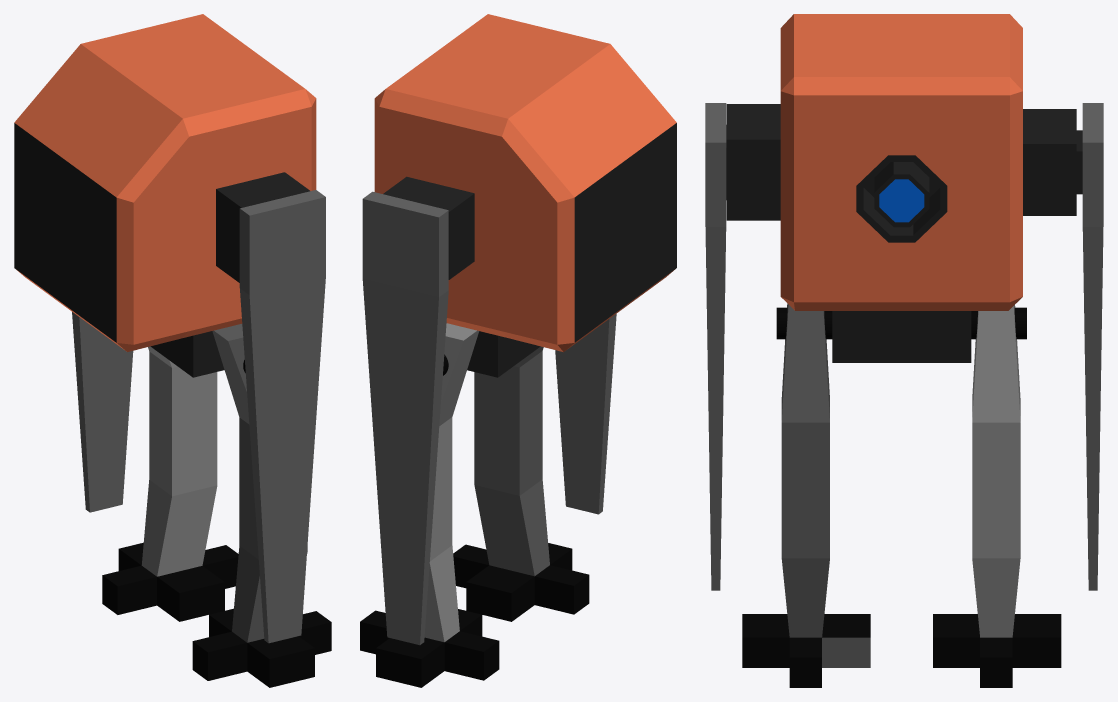
File: droid_v001.fbx
The picture shows the model from 3 angles, left to right: view 1: azimuth 30°, elevation 25°; view 2: azimuth 150°, elevation 25°; view 3: azimuth 270°, elevation 25°; orthographic projection. The views are drawn at different scales.
Visible parts, largest first — view 1: Body, ArmR, LegL, LegR, ArmL; view 2: Body, ArmL, LegR, LegL, ArmR; view 3: Body, LegR, LegL, ArmL, ArmR, Axel.
Part boxes in pixels (left/top/right/bottom): Body: left=14, top=14, right=316, bottom=377; ArmR: left=239, top=190, right=325, bottom=643; LegL: left=102, top=346, right=238, bottom=621; LegR: left=192, top=324, right=331, bottom=687; ArmL: left=72, top=312, right=133, bottom=512; Body: left=374, top=14, right=676, bottom=377; ArmL: left=362, top=191, right=448, bottom=645; LegR: left=453, top=346, right=589, bottom=621; LegL: left=360, top=323, right=499, bottom=687; ArmR: left=555, top=314, right=616, bottom=514; Body: left=726, top=14, right=1082, bottom=362; LegR: left=742, top=303, right=870, bottom=687; LegL: left=933, top=305, right=1061, bottom=687; ArmL: left=1082, top=103, right=1103, bottom=590; ArmR: left=705, top=103, right=726, bottom=590; Axel: left=776, top=307, right=1026, bottom=339.
Bounding box in the file's own units: 416 × 1056 × 637.
